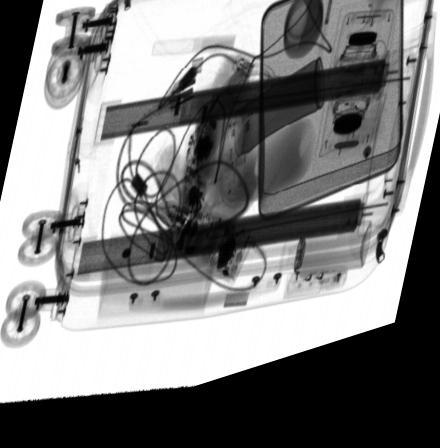Sprayer: (278, 244, 371, 293)
